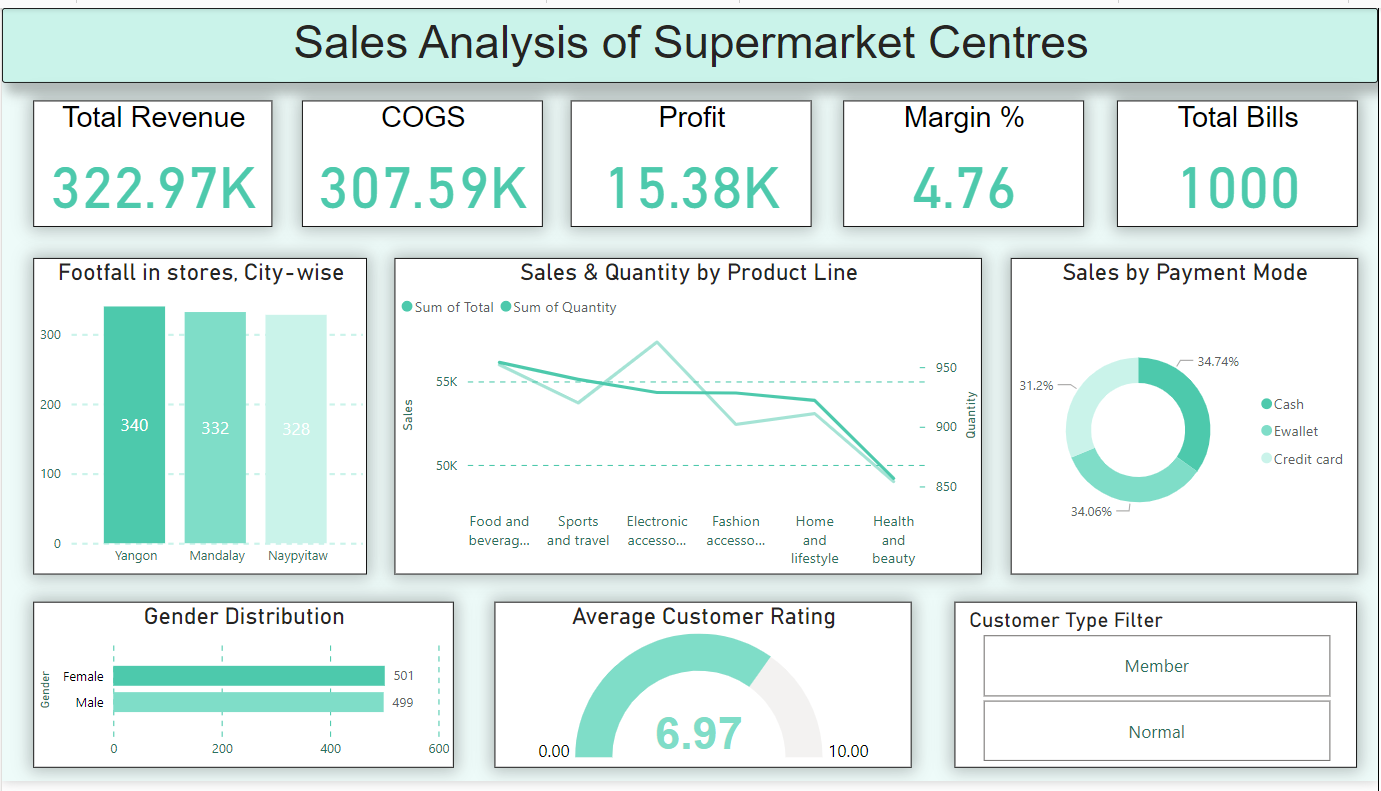

What the dashboard file says about the page in this screenshot:
{"tool":"powerbi","page":{"name":"Sales Analysis","canvas":[1280,720],"ordinal":0},"visuals":[{"type":"textbox","box":[0,0,1280.3,70],"z":0},{"type":"card","title":"Total Revenue","fields":{"Values":["Sum(supermarket_sales.Total)"]},"box":[29.3,85.6,222.6,117.4],"z":1000},{"type":"card","title":"COGS","fields":{"Values":["Sum(supermarket_sales.COGS)"]},"box":[278.8,85.6,223.8,117.4],"z":2000},{"type":"card","title":"Profit","fields":{"Values":["Sum(supermarket_sales.Gross Income)"]},"box":[529.5,85.6,223.8,117.4],"z":3000},{"type":"card","title":"Margin %","fields":{"Values":["supermarket_sales.Margin_Value"]},"box":[782.6,85.6,223.8,117.4],"z":4000},{"type":"card","title":"Total Bills","fields":{"Values":["CountNonNull(supermarket_sales.Invoice ID)"]},"box":[1037,85.6,223.8,117.4],"z":5000},{"type":"columnChart","title":"Footfall in stores, City-wise","fields":{"Category":["supermarket_sales.City"],"Y":["CountNonNull(supermarket_sales.Branch)"]},"box":[29.3,232.3,310.6,294.7],"z":6000},{"type":"lineChart","title":"Sales & Quantity by Product Line","fields":{"Category":["supermarket_sales.Product Line"],"Y":["Sum(supermarket_sales.Total)"],"Y2":["Sum(supermarket_sales.Quantity)"]},"box":[365.6,232.3,546.6,294.7],"z":7000},{"type":"donutChart","title":"Sales by Payment Mode","fields":{"Category":["supermarket_sales.Payment"],"Y":["Sum(supermarket_sales.Total)"]},"box":[937.9,232.3,322.8,294.7],"z":8000},{"type":"barChart","title":"Gender Distribution","fields":{"Category":["supermarket_sales.Gender"],"Y":["CountNonNull(supermarket_sales.Invoice ID)"]},"box":[29.3,552.7,391.3,154.1],"z":9000},{"type":"gauge","title":"Average Customer Rating","fields":{"Y":["supermarket_sales.Avg_Rating"],"MinValue":["supermarket_sales.Min_Rating"],"MaxValue":["supermarket_sales.Max_Rating"]},"box":[458.6,552.7,387.6,154.1],"z":10000},{"type":"slicer","fields":{"Values":["supermarket_sales.Customer type"]},"box":[886.6,552.7,374.2,154.1],"z":11000}]}

Visuals, with their boxes in screenshot pixels (x1, y1, x2, y2), scaled from the page's 1280x720 canvas onto the 1381x791 screenshot:
textbox: (x1=0, y1=0, x2=1380, y2=77)
"Total Revenue" card: (x1=32, y1=94, x2=272, y2=223)
"COGS" card: (x1=301, y1=94, x2=542, y2=223)
"Profit" card: (x1=571, y1=94, x2=813, y2=223)
"Margin %" card: (x1=844, y1=94, x2=1086, y2=223)
"Total Bills" card: (x1=1119, y1=94, x2=1360, y2=223)
"Footfall in stores, City-wise" columnChart: (x1=32, y1=255, x2=367, y2=579)
"Sales & Quantity by Product Line" lineChart: (x1=394, y1=255, x2=984, y2=579)
"Sales by Payment Mode" donutChart: (x1=1012, y1=255, x2=1360, y2=579)
"Gender Distribution" barChart: (x1=32, y1=607, x2=454, y2=776)
"Average Customer Rating" gauge: (x1=495, y1=607, x2=913, y2=776)
slicer - supermarket_sales.Customer type: (x1=957, y1=607, x2=1360, y2=776)
